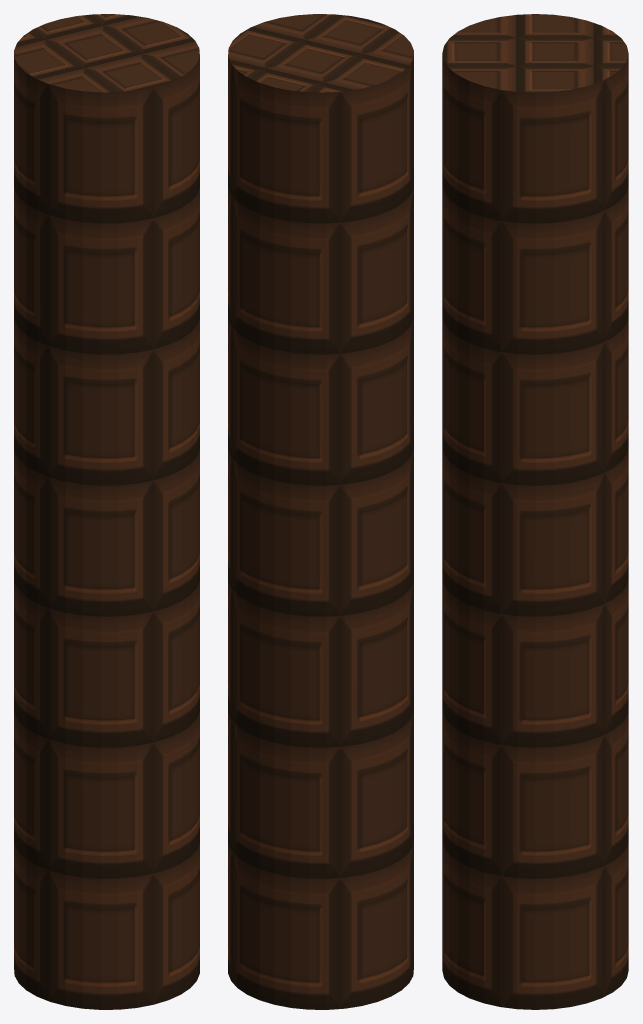
The model's file is Chocolate_Cylinder.fbx.
3 views of the same model, side by side, from view 1: azimuth 30°, elevation 25°; view 2: azimuth 150°, elevation 25°; view 3: azimuth 270°, elevation 25° (orthographic).
Visible parts, largest first — view 1: Cylinder; view 2: Cylinder; view 3: Cylinder.
Part boxes in pixels (x1,y1,x2,y2): Cylinder: [14, 14, 199, 1009]; Cylinder: [228, 14, 413, 1009]; Cylinder: [442, 14, 628, 1009].
Bounding box in the file's own units: 201 × 1091 × 201.
